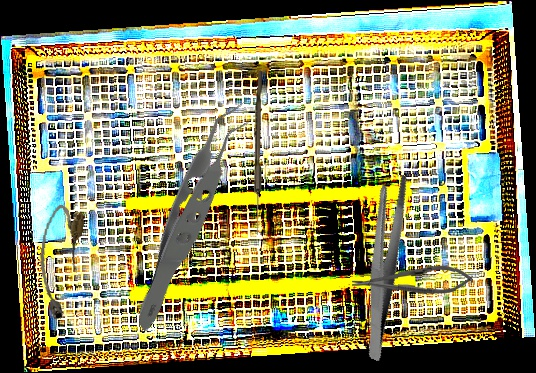Cannula: (30, 203, 87, 321)
Dressing Forceps: (320, 169, 448, 362)
Needle Holder: (351, 263, 474, 298)
Surgical Spoon: (254, 71, 262, 235)
Tissue Forceps: (68, 96, 325, 333)
